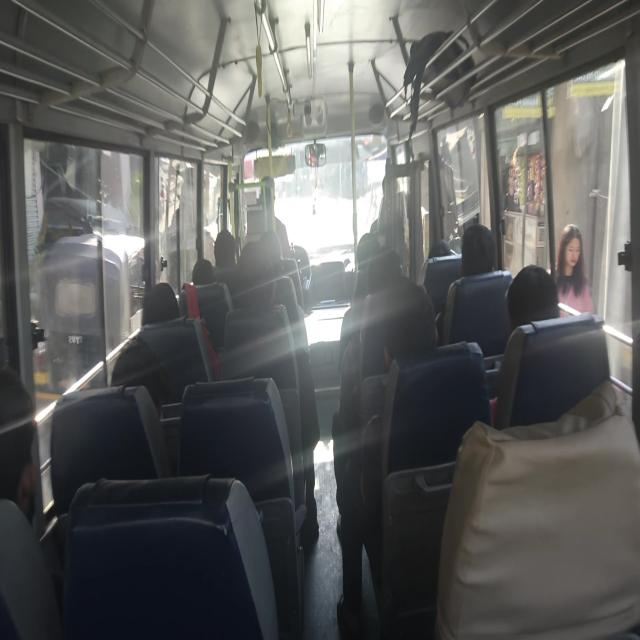person: (334, 278, 438, 635), (237, 232, 320, 540), (110, 281, 211, 415), (438, 223, 497, 344), (506, 264, 560, 332), (555, 223, 594, 314), (459, 224, 496, 277), (213, 228, 237, 270)
